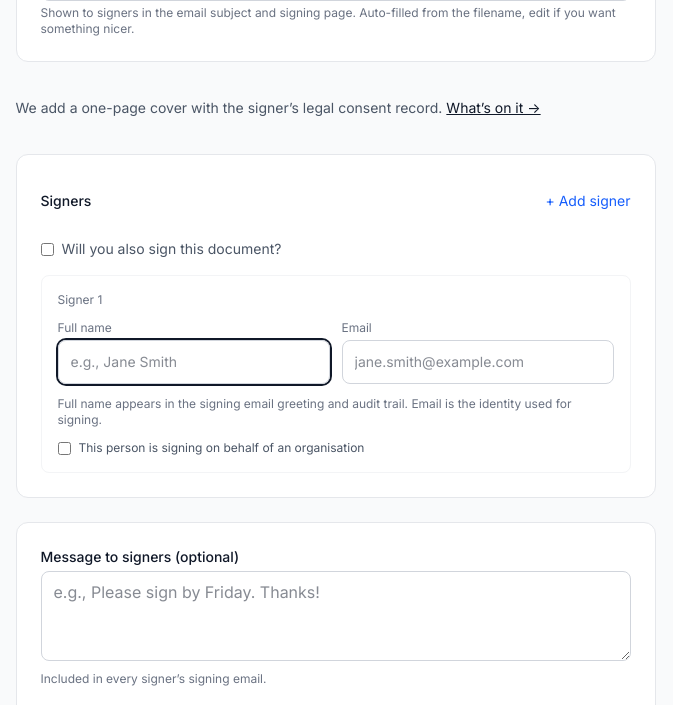
Test case: F-3.9 — the self-sign row and a restored draft are checked too (AC-311) › switching the self-sign row on checks the creator’s own address
(page scrolled)
What coordinates should you click on to do the following:
click the checkbox labelled "Will you also sign this document?"
I would click on:
 (47, 249)
Its box is [40,242,54,256].
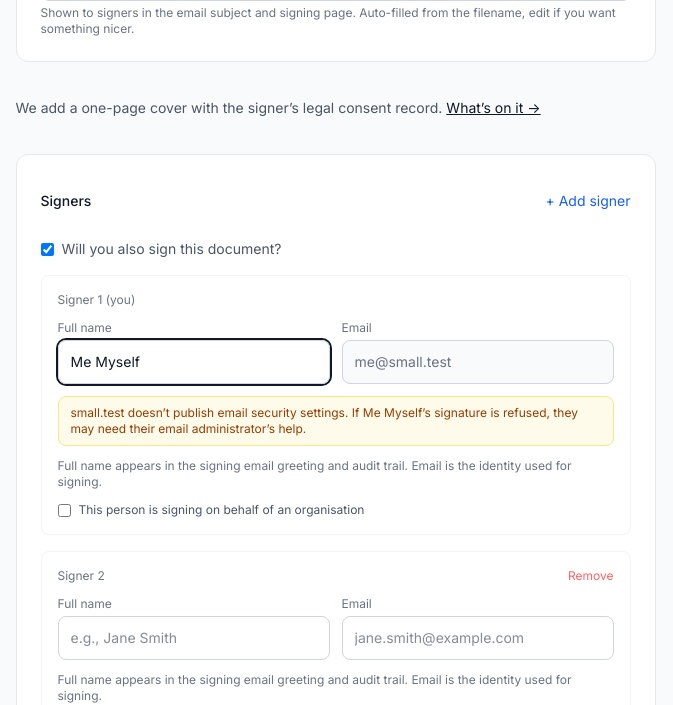
Expected: the text "small.test doesn’t publish email security settings. If Me Myself’s signature is refused, they may need their email admin" is shown, [70,405,578,436]
